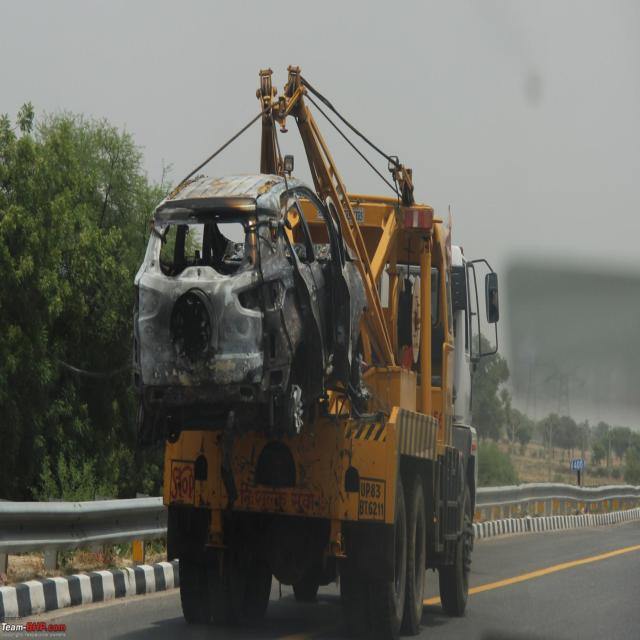accident: (134, 175, 365, 443)
truck: (164, 67, 499, 638)
